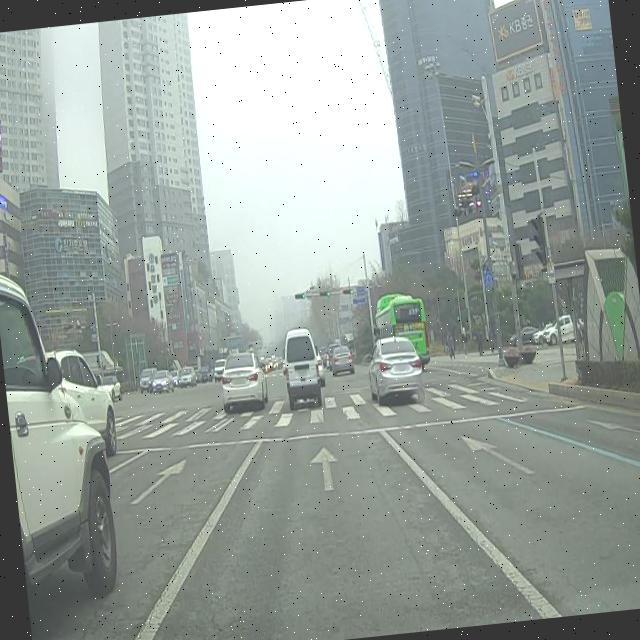crosswalk: (115, 378, 533, 440)
